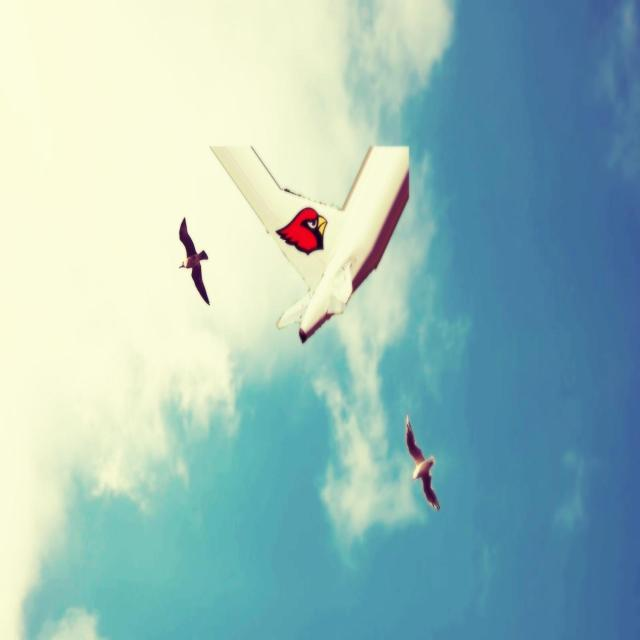airplane: (209, 142, 410, 344)
